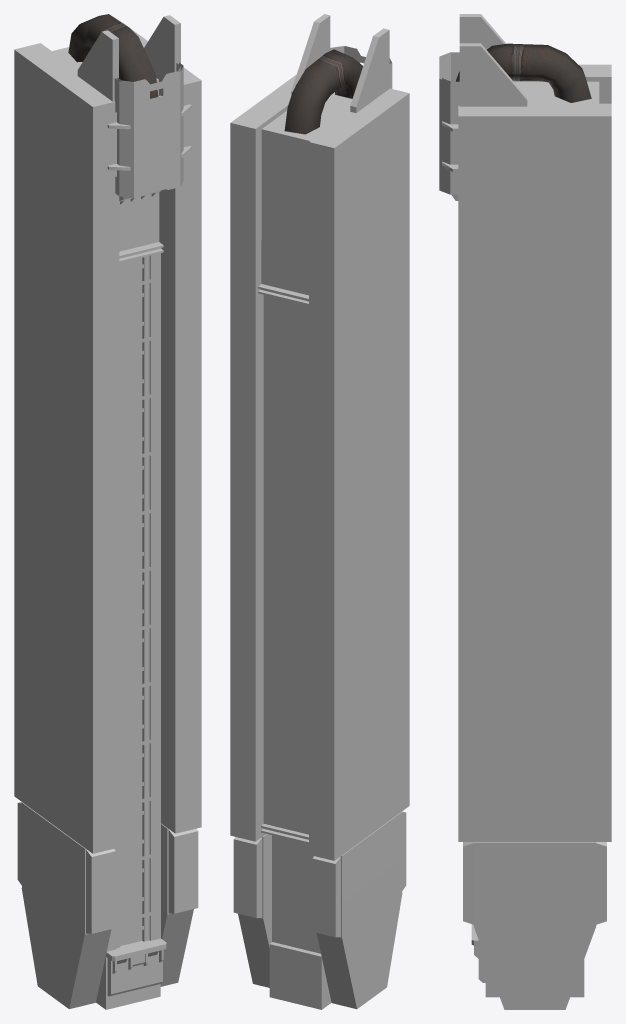
Rendered from Wall_Large_04_LOD2.fbx.
3 renders of one model, left to right at view 1: azimuth 30°, elevation 25°; view 2: azimuth 150°, elevation 25°; view 3: azimuth 270°, elevation 25°, orthographic. The views are drawn at different scales.
Visible parts, largest first — view 1: Concrete_Block, Element1, Element2, Element3, Pipe1; view 2: Concrete_Block, Element3, Pipe1, Element2, Element1; view 3: Concrete_Block, Element2, Pipe1, Element3, Element1.
Boxes of the visible parts, left/top/right/bottom form: Concrete_Block: left=14, top=23, right=201, bottom=1009; Element1: left=105, top=242, right=166, bottom=996; Element2: left=77, top=15, right=192, bottom=204; Element3: left=17, top=802, right=198, bottom=933; Pipe1: left=68, top=14, right=158, bottom=98; Concrete_Block: left=230, top=74, right=409, bottom=1009; Element3: left=233, top=811, right=406, bottom=937; Pipe1: left=284, top=49, right=362, bottom=134; Element2: left=291, top=14, right=392, bottom=112; Element1: left=258, top=284, right=308, bottom=843; Concrete_Block: left=458, top=64, right=611, bottom=1009; Element2: left=439, top=14, right=527, bottom=200; Pipe1: left=456, top=43, right=591, bottom=102; Element3: left=463, top=842, right=606, bottom=924; Element1: left=471, top=924, right=485, bottom=982.
Bounding box in the file's own units: 398 × 3413 × 561.
